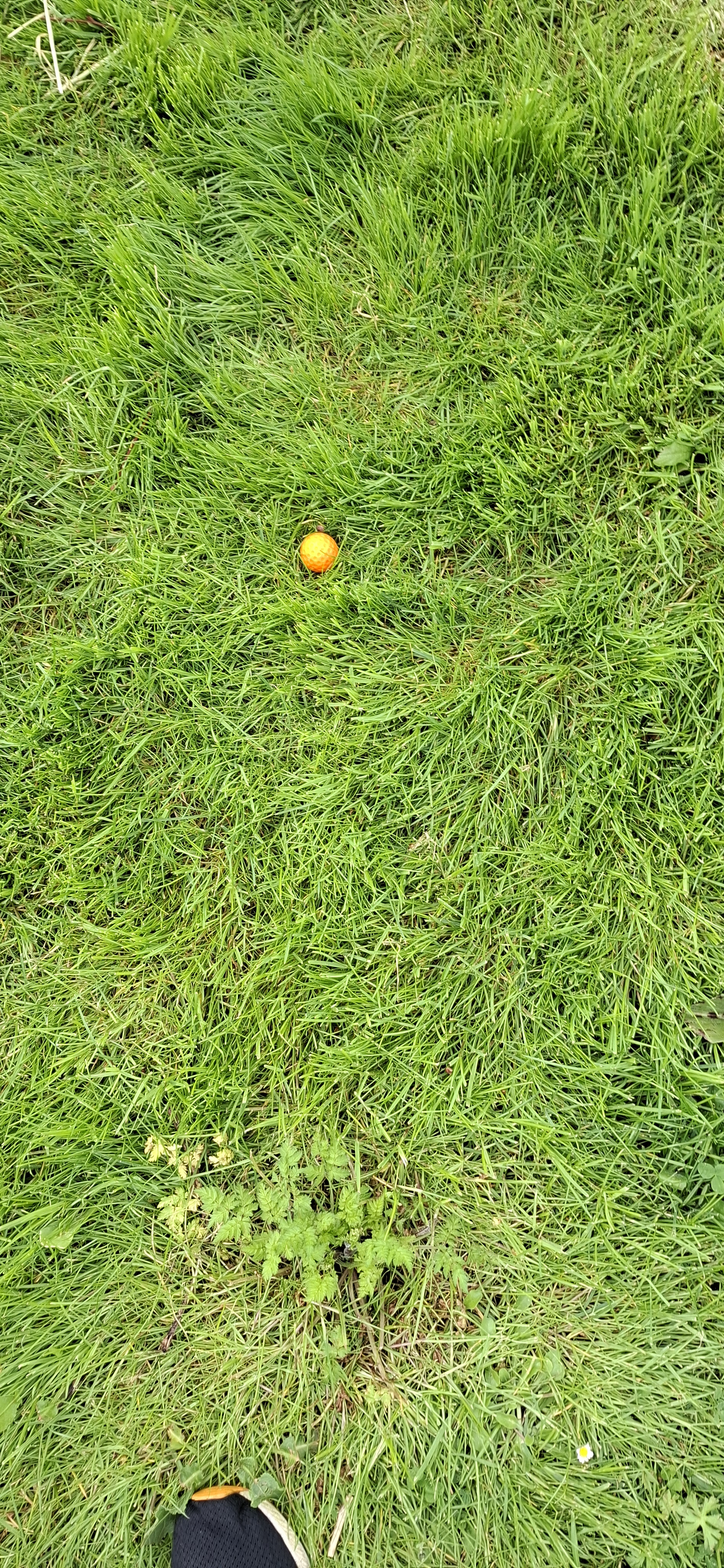ball: (246, 834, 264, 915)
